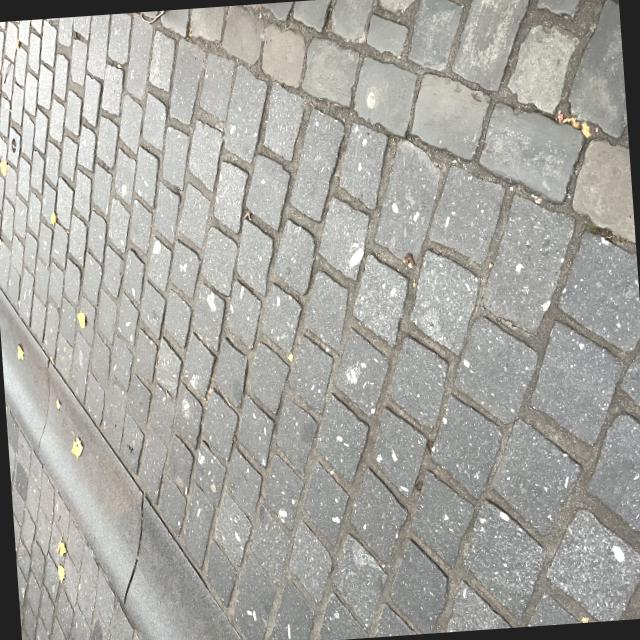leaves: (337, 0, 376, 25), (395, 0, 428, 23), (278, 0, 314, 17), (41, 70, 78, 86), (131, 94, 151, 112), (204, 27, 225, 44), (308, 75, 319, 87), (234, 110, 244, 122)
pavement: (0, 122, 502, 640)
